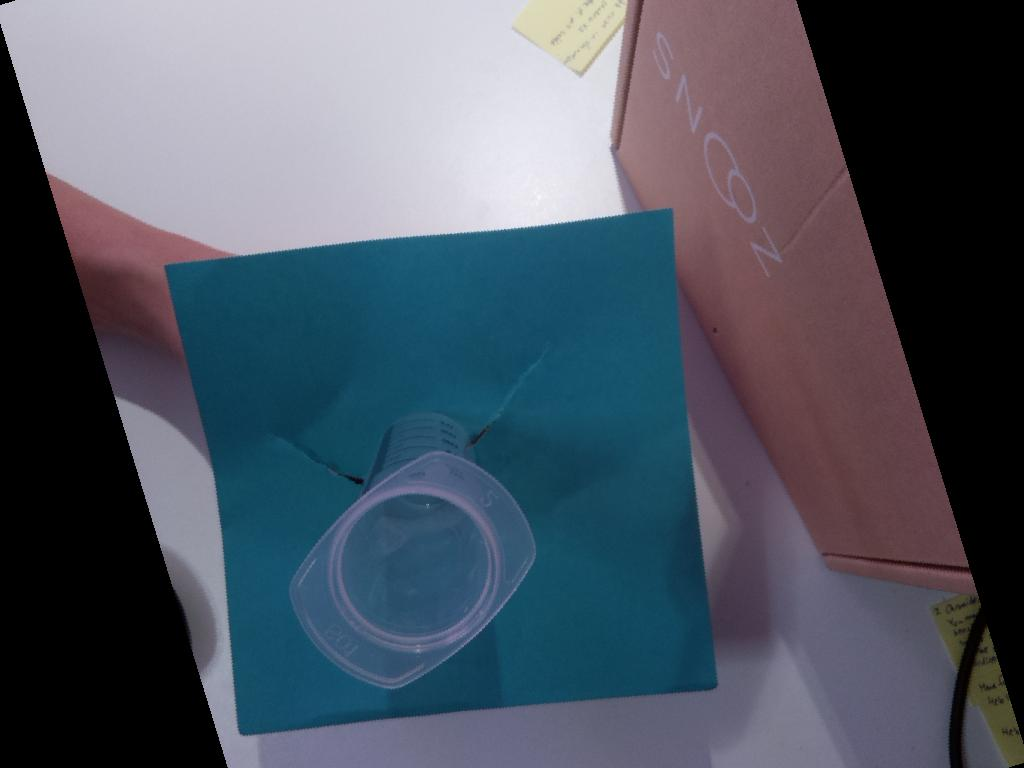clean: (283, 448, 540, 689)
